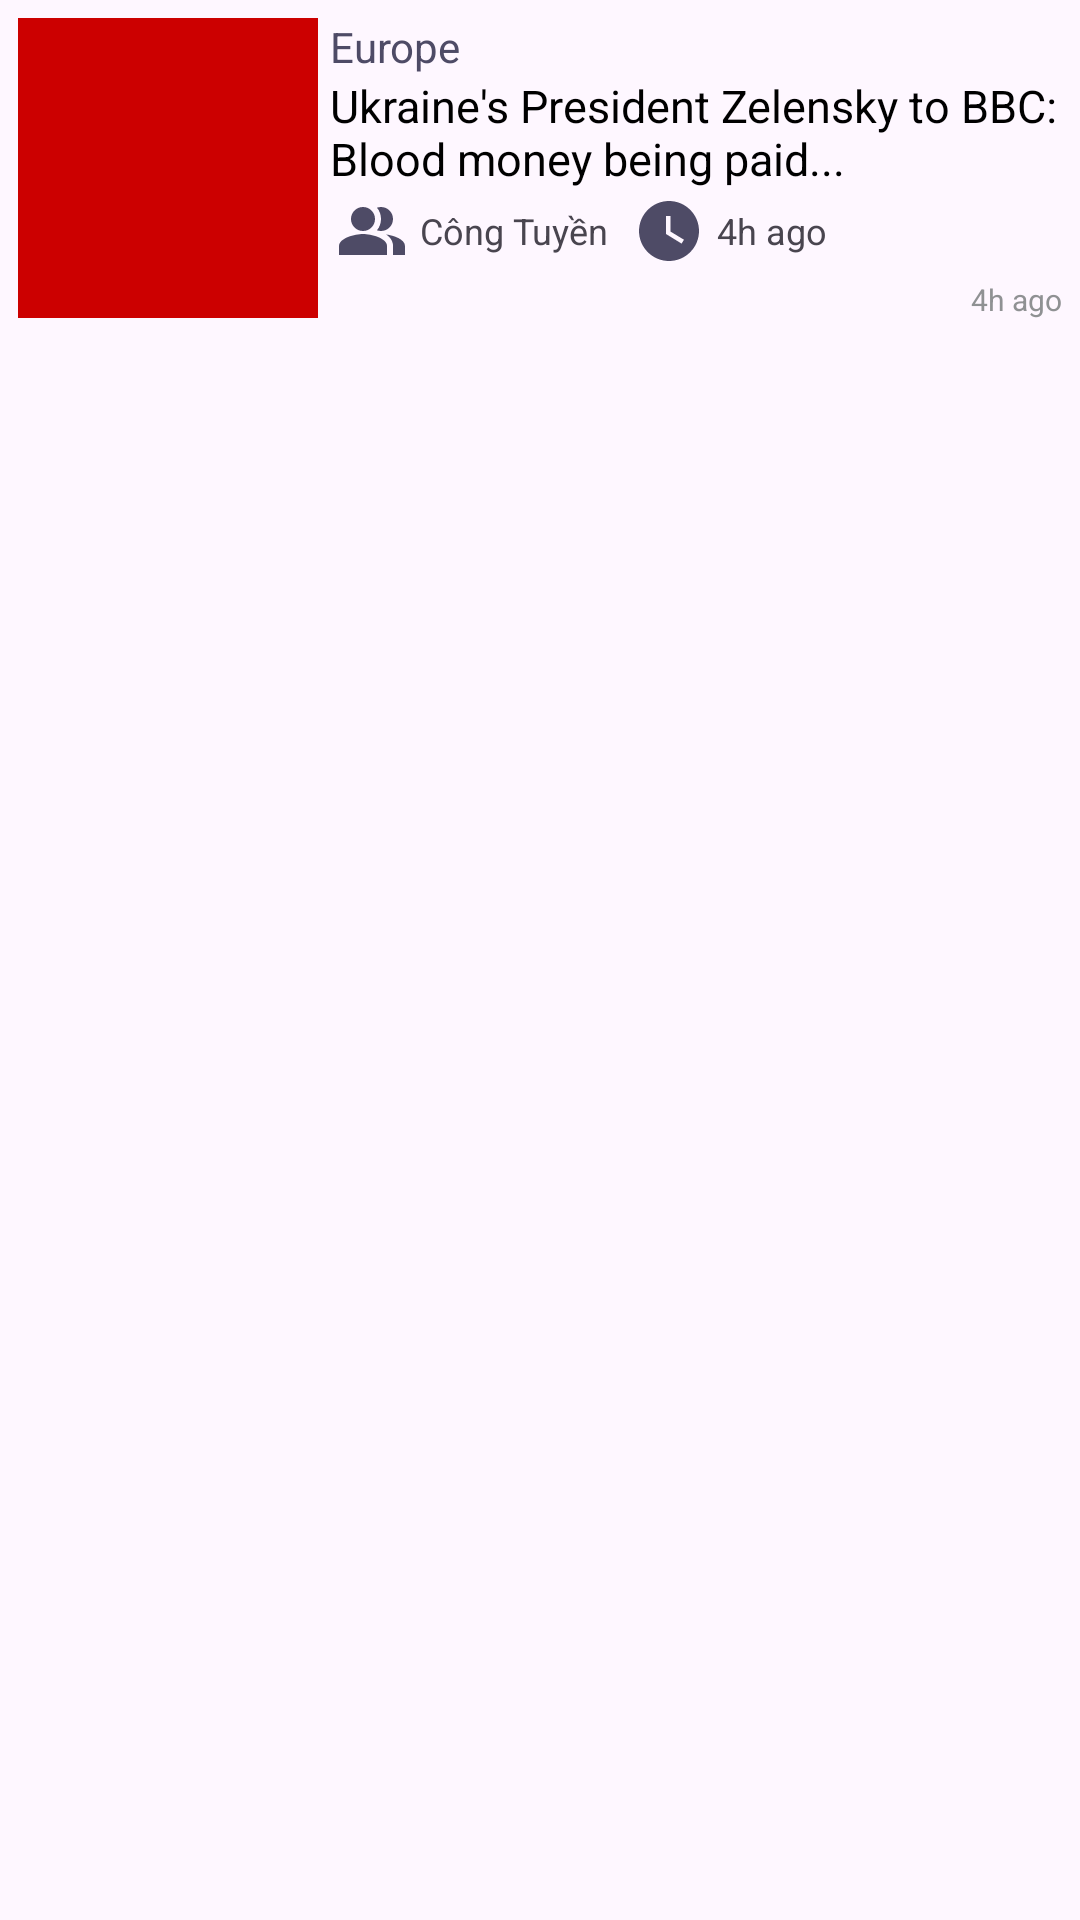

Where icons sit on this 1080×1920 app screen, as (x1, y1, x2, y2):
people: (339, 207, 405, 255)
watch later: (639, 201, 699, 261)
